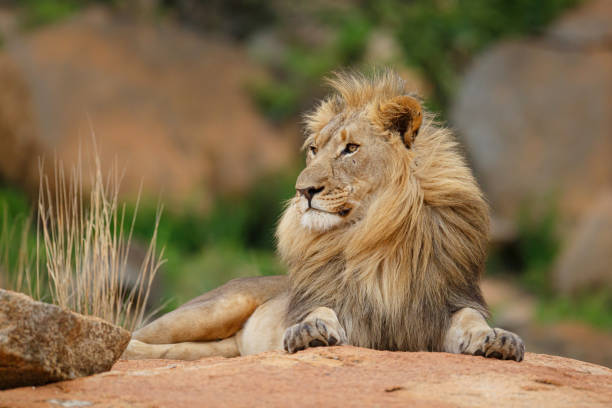lion: (248, 47, 521, 379)
